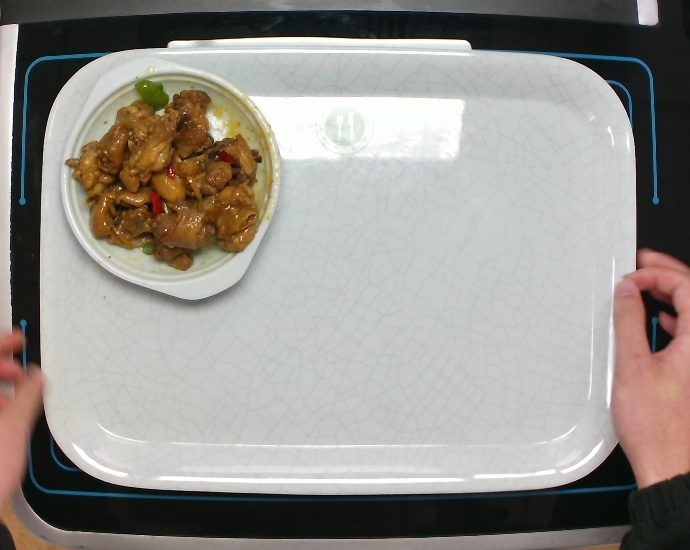JYsf-Shuang_Er_Pan: (56, 58, 289, 306)
